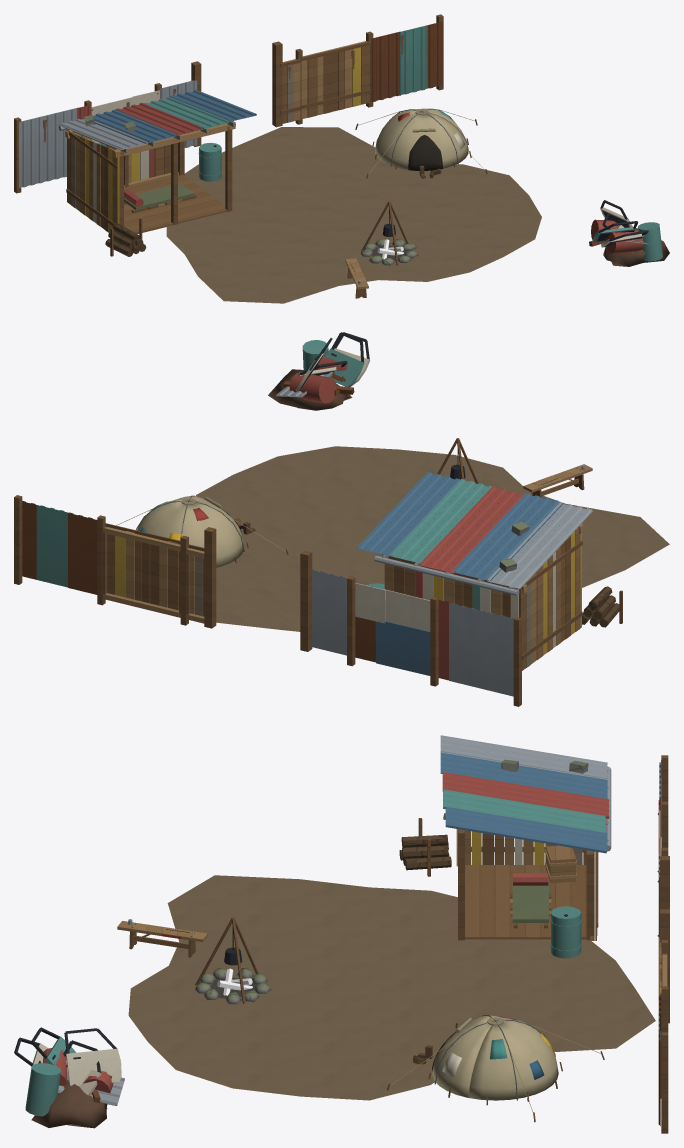
Rendered from camp.glb.
3 renders of one model, top to bottom at view 1: azimuth 30°, elevation 25°; view 2: azimuth 150°, elevation 25°; view 3: azimuth 270°, elevation 25°, orthographic. The views are drawn at different scales.
Parts seen in each view (by area): view 1: camp.001; view 2: camp.001; view 3: camp.001.
Boxes of the visible parts, left/top/right/bottom form: camp.001: left=14, top=14, right=669, bottom=303; camp.001: left=14, top=332, right=669, bottom=706; camp.001: left=14, top=735, right=669, bottom=1133.
Size of what is drawn, in the model's own units: 13.14 by 2.94 by 13.01.
Materials: 52 (51 with a texture image).
